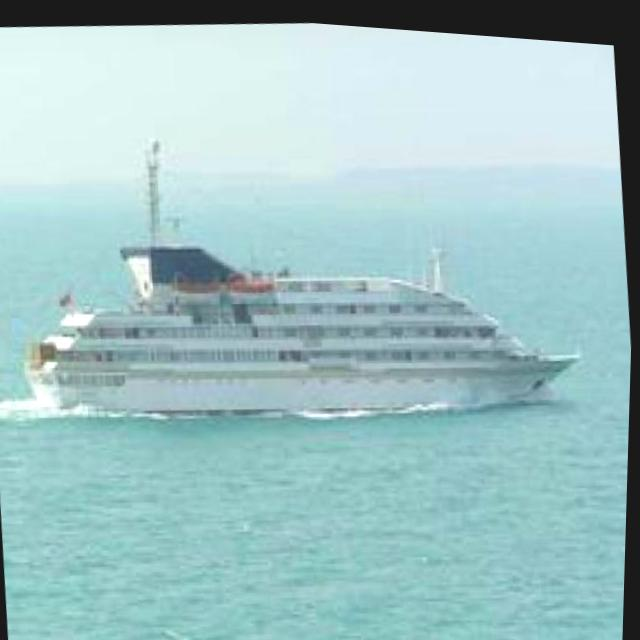ship2: (24, 137, 584, 421)
